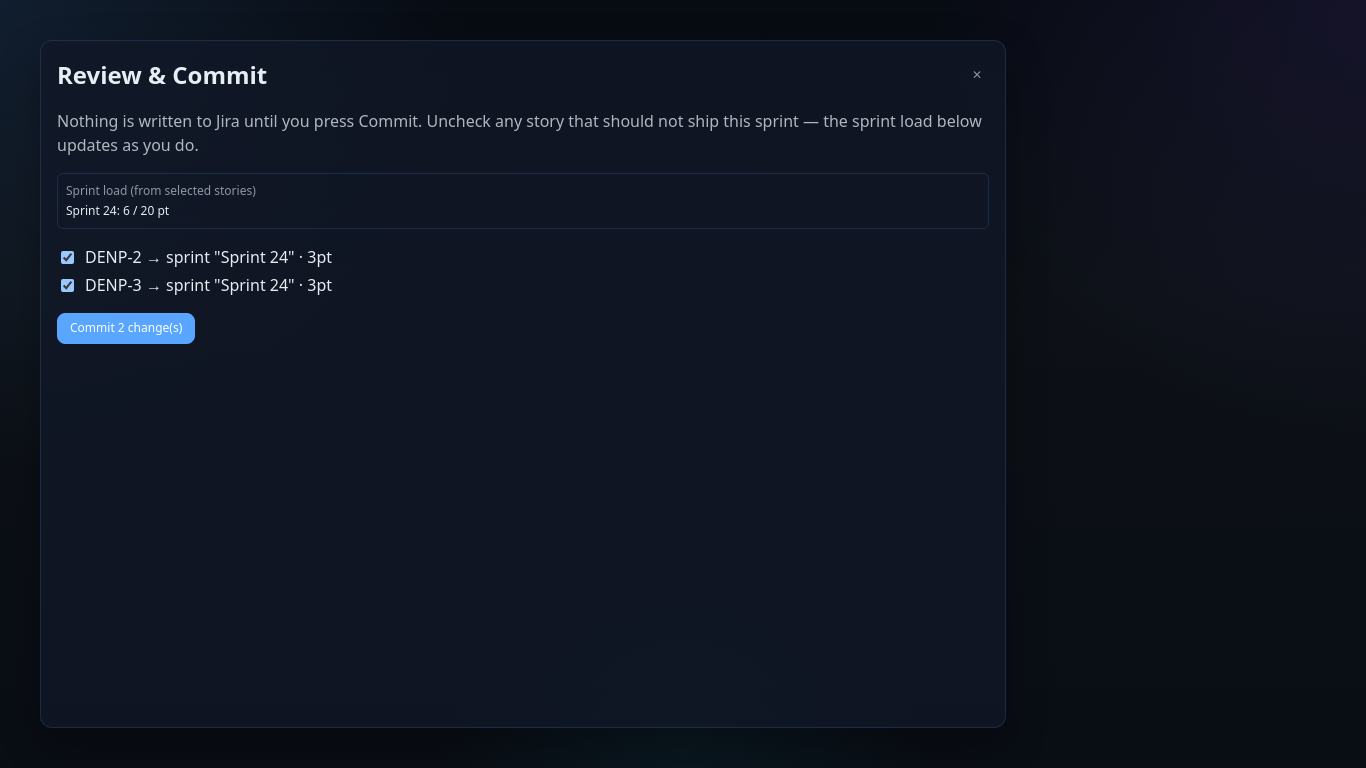
Test: ReviewCommitPanel › shows per-sprint story-point load from selected child stories, recomputing as they toggle
The image size is (1366, 768).
Expected: the text "Sprint load (from selected stories)" is shown, [66, 182, 256, 199]
Expected: the text "Sprint 24: 6 / 20 pt" is shown, [66, 202, 169, 219]
Note: Unchecking one 3pt story drops the load to 3.
Click the checkbox labelled "DENP-2 → sprint \"Sprint 24\" · 3pt" at (68, 257), box [61, 250, 74, 264]
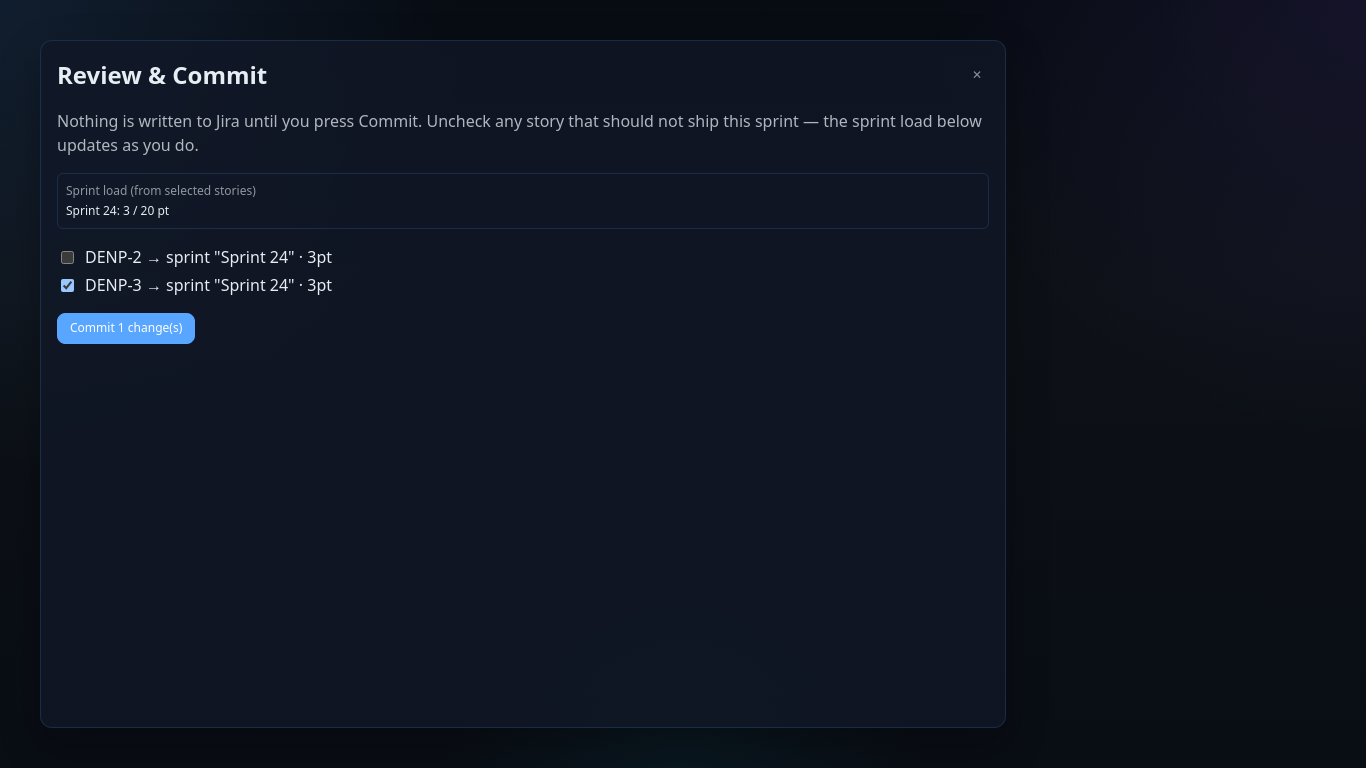
Expected: the text "Sprint 24: 3 / 20 pt" is shown, [66, 202, 169, 219]
